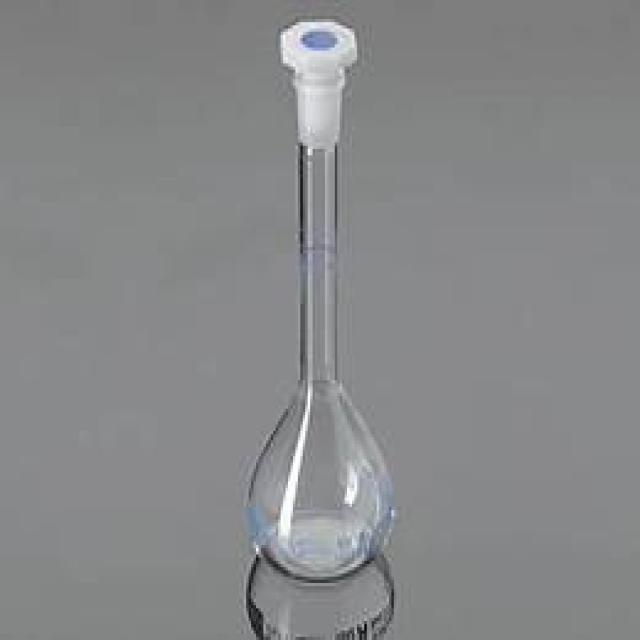Volumetric flask: (236, 16, 389, 580)
